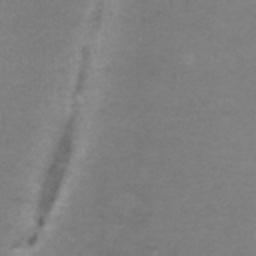Finishing roll printing: (28, 1, 104, 245)
